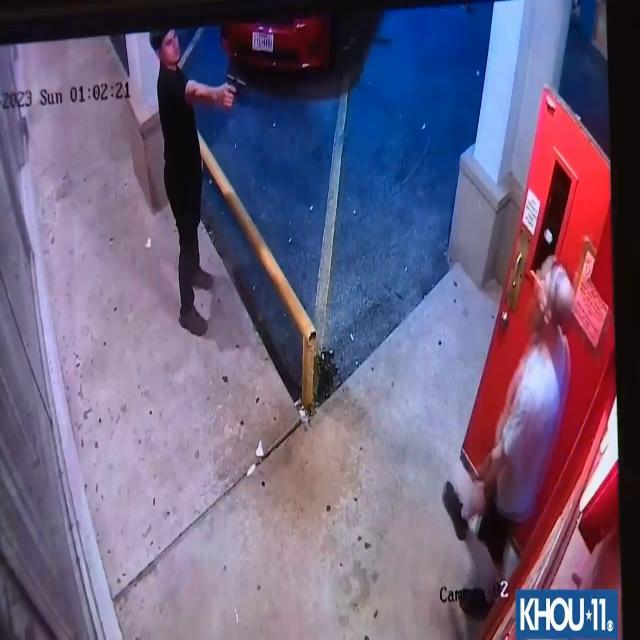penembakan: (149, 28, 261, 337)
